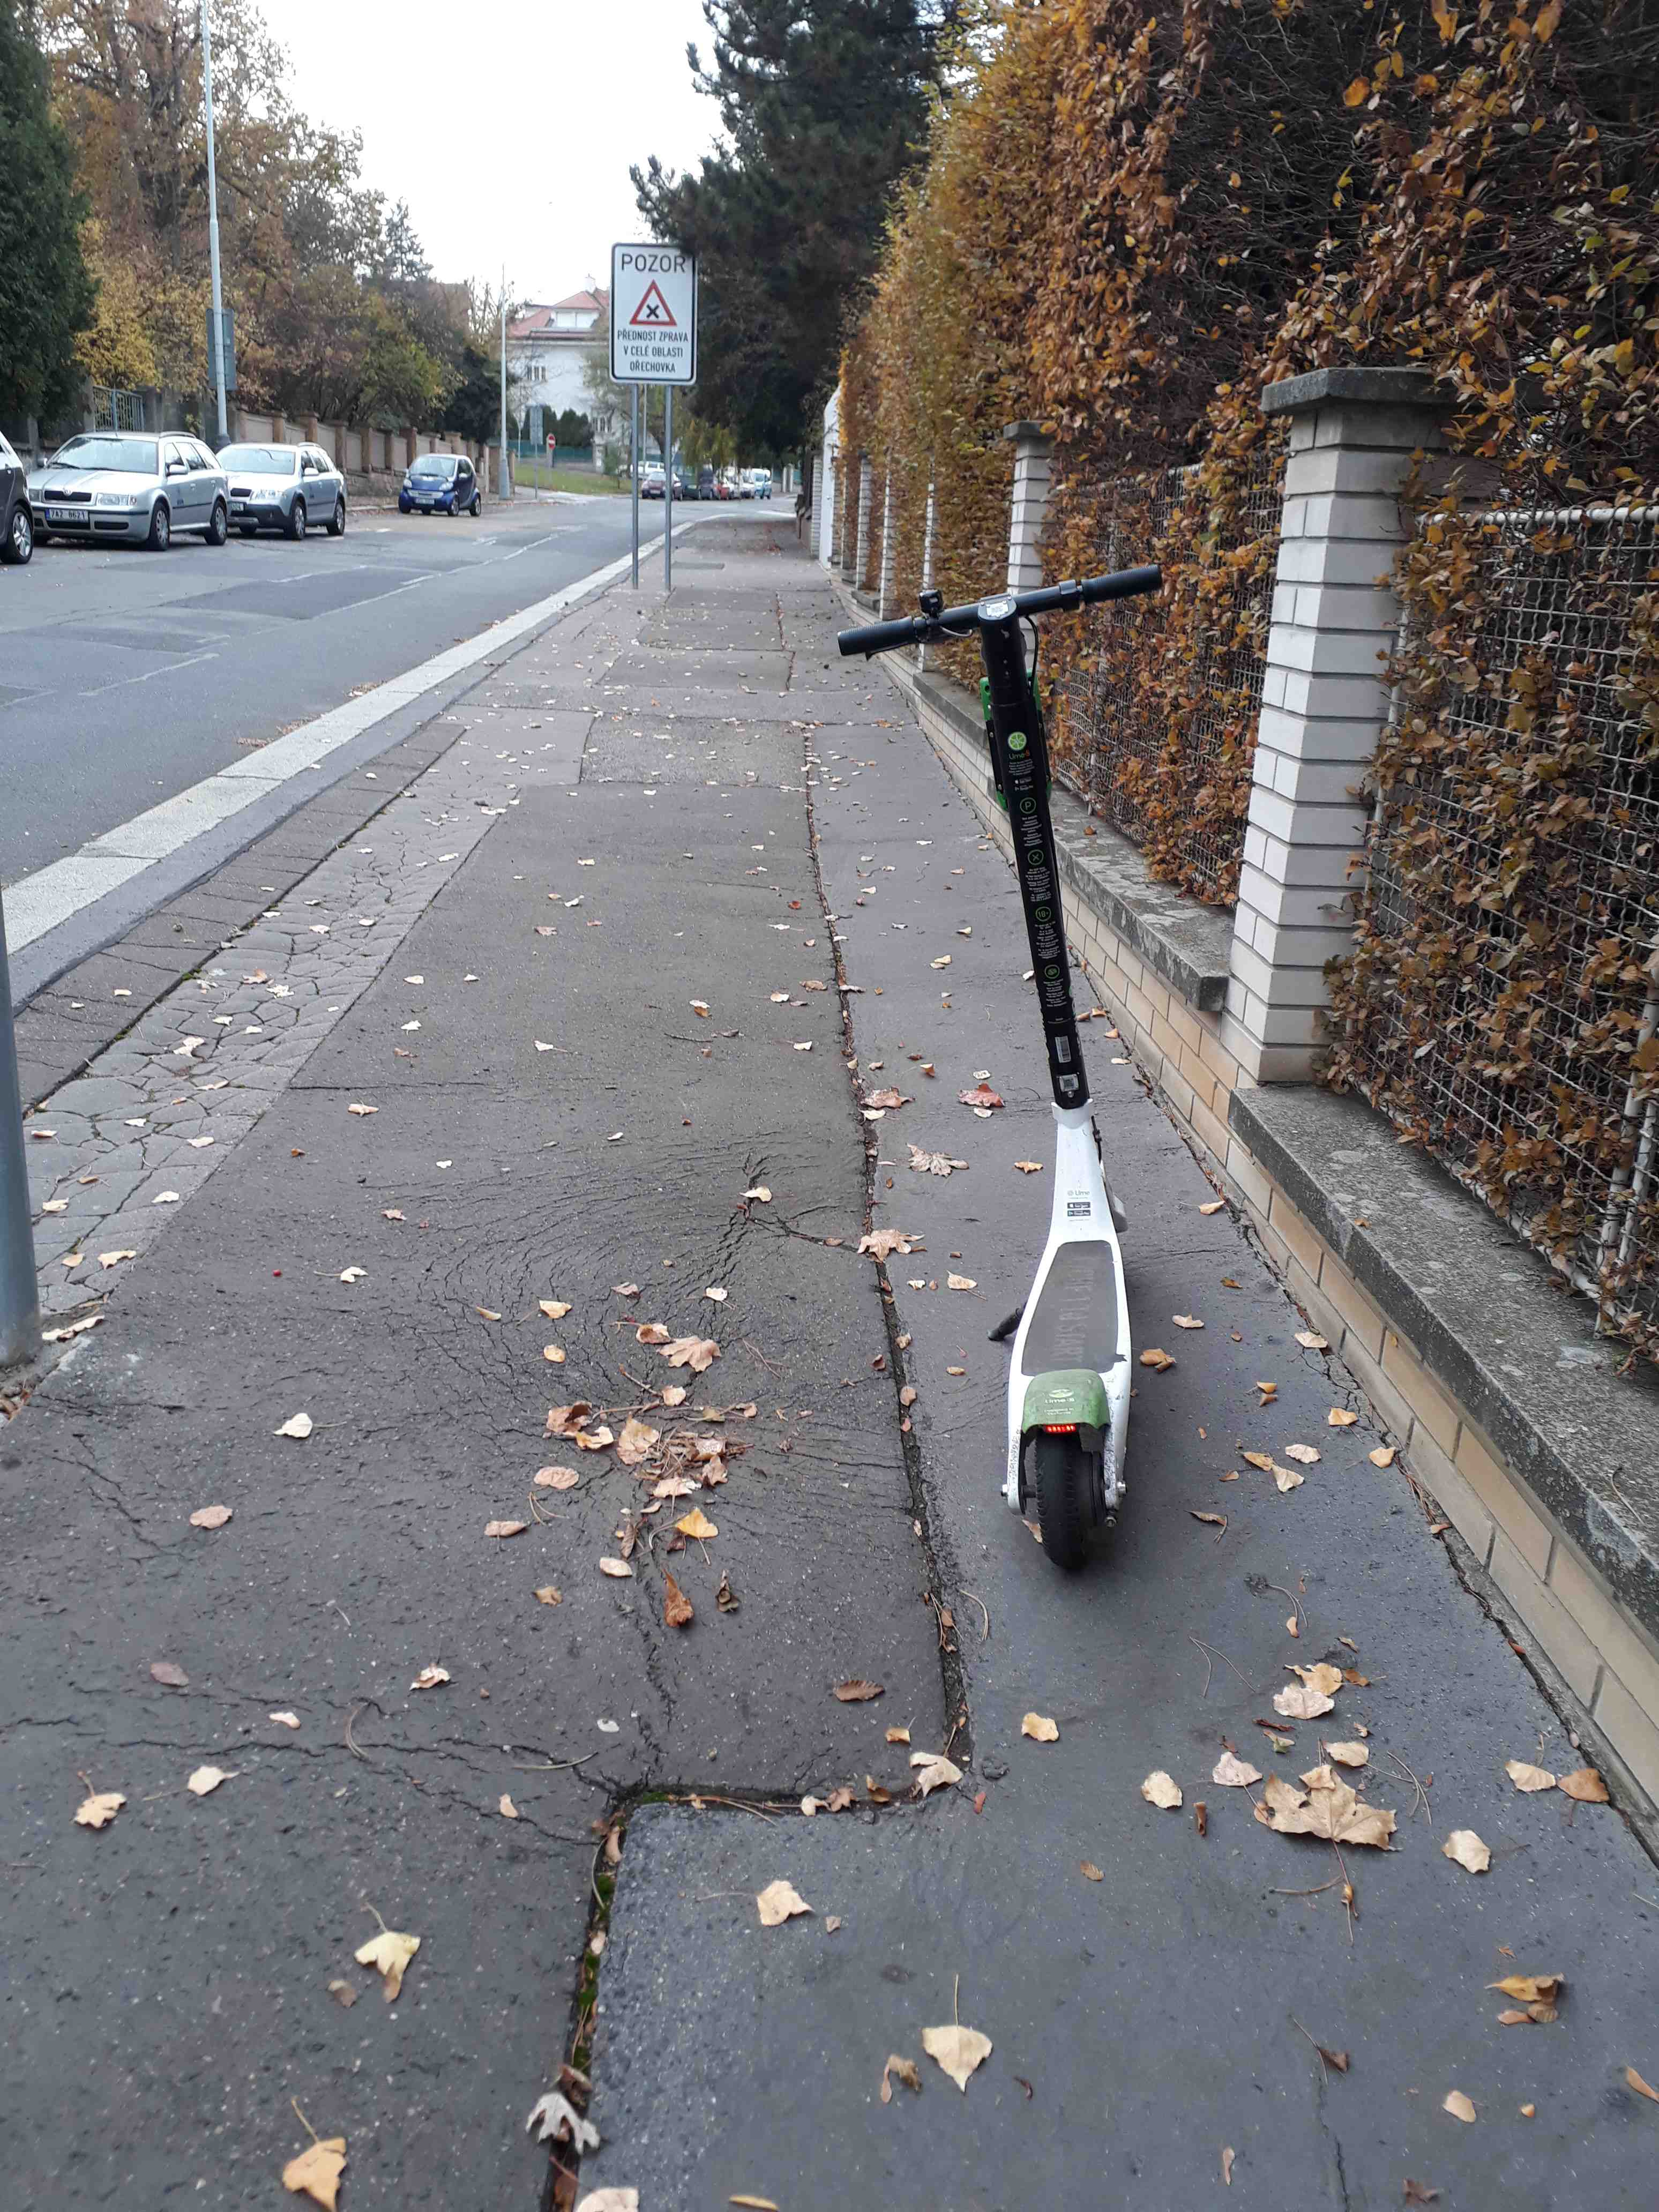scooter: (789, 517, 1223, 1618)
